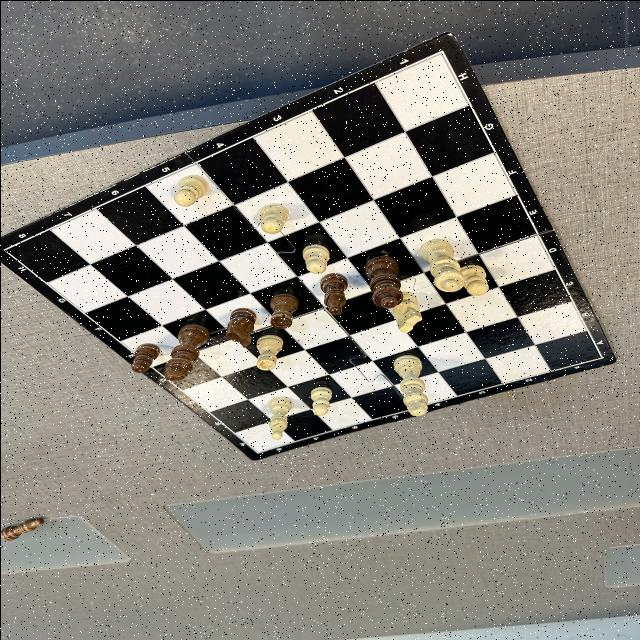Black-Bishop: (319, 272, 347, 314), (0, 516, 44, 540)
Black-King: (162, 323, 208, 380)
Black-Knight: (224, 307, 256, 347)
Black-Pawn: (130, 342, 160, 372)
Black-Queen: (363, 255, 402, 308)
Black-Rook: (269, 292, 298, 328)
White-Bishop: (268, 396, 292, 440)
White-King: (392, 354, 427, 416)
White-Knight: (394, 290, 422, 332)
White-Pawn: (172, 174, 208, 206), (458, 264, 488, 296), (258, 202, 288, 234), (301, 243, 329, 273), (309, 385, 331, 415)
White-Queen: (419, 238, 465, 292)
White-Rook: (255, 334, 282, 369)
